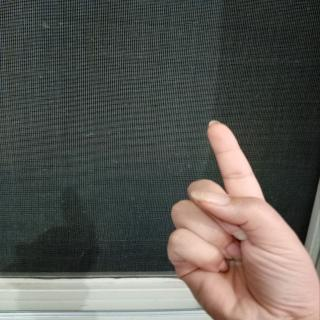BAA: (155, 115, 320, 320)
